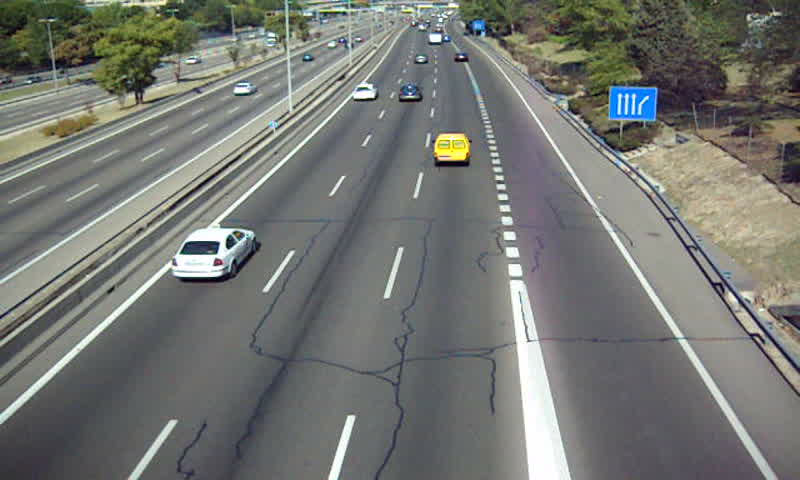car: (171, 227, 256, 279), (351, 83, 378, 101), (398, 84, 423, 103), (454, 50, 469, 64), (414, 53, 428, 66)
van: (433, 133, 470, 166)
